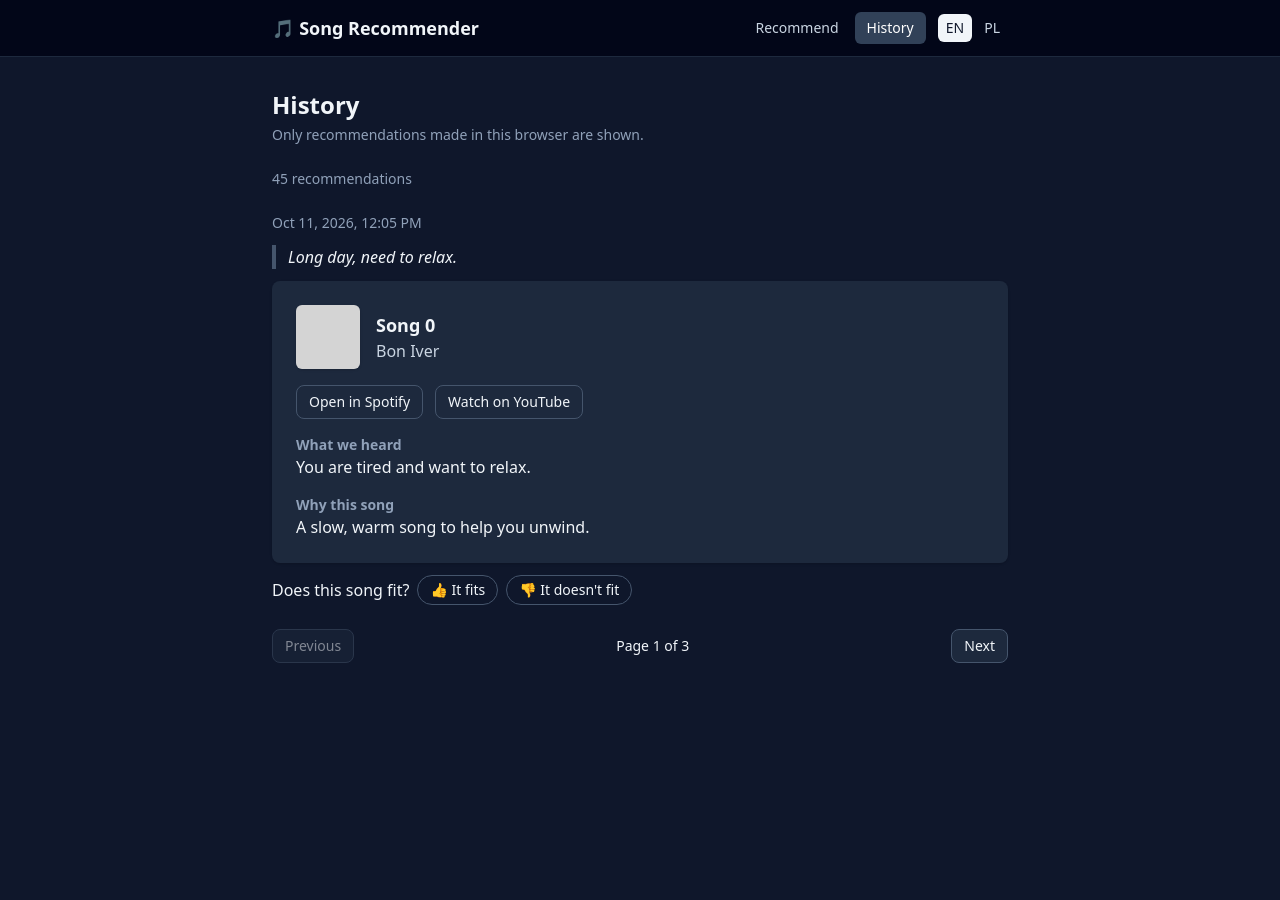
Scenario: HistoryPage › pages through the history
Expected: the text "Page 1 of 3" is shown, [616,636,689,656]
Expected: the button "Previous" is disabled, [272,629,354,663]
Click the button "Next" at [980, 646], box [951,629,1008,663]
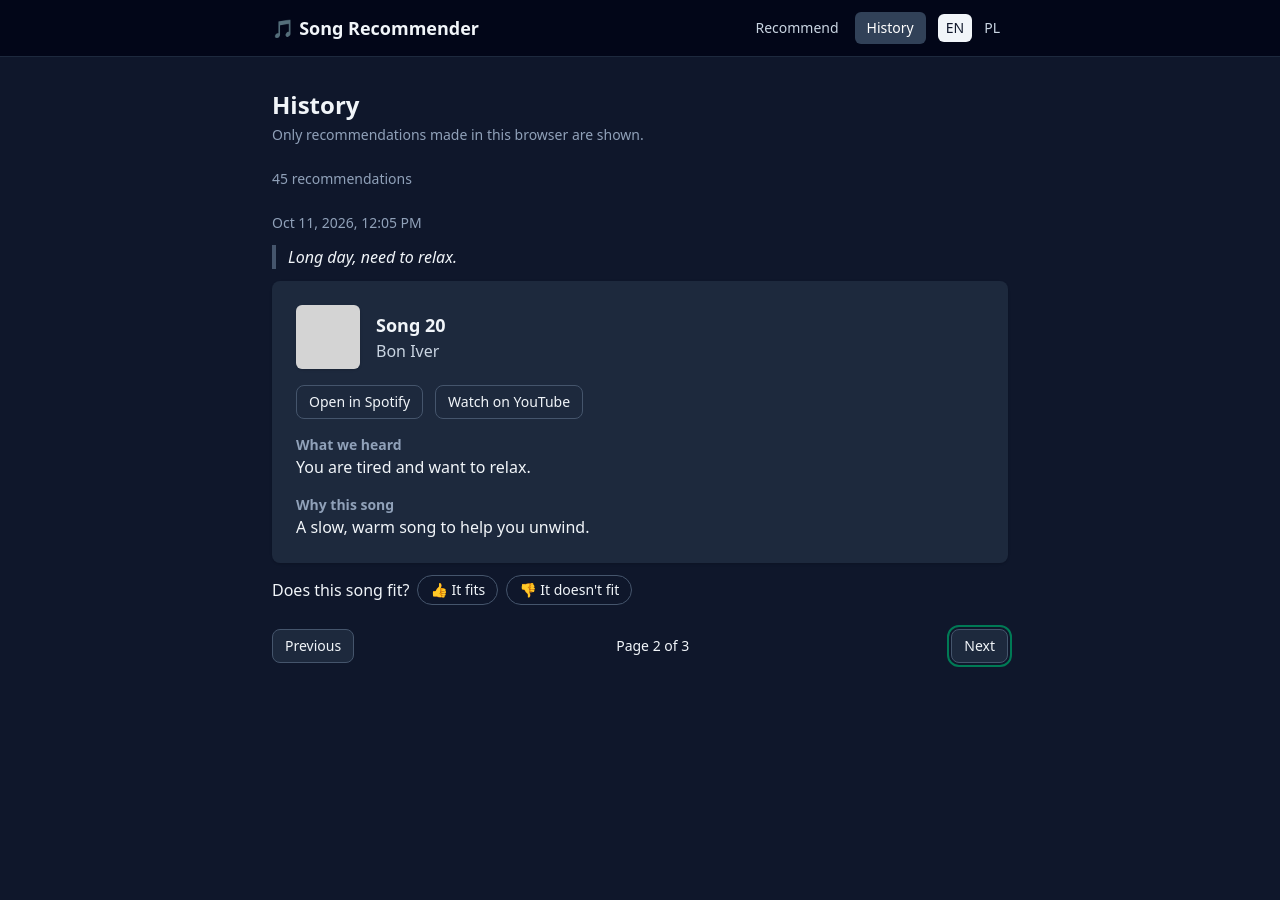
Now the heading "Song 20" is shown, box [376,311,446,339]
Click the button "Next" at [980, 646], box [951,629,1008,663]
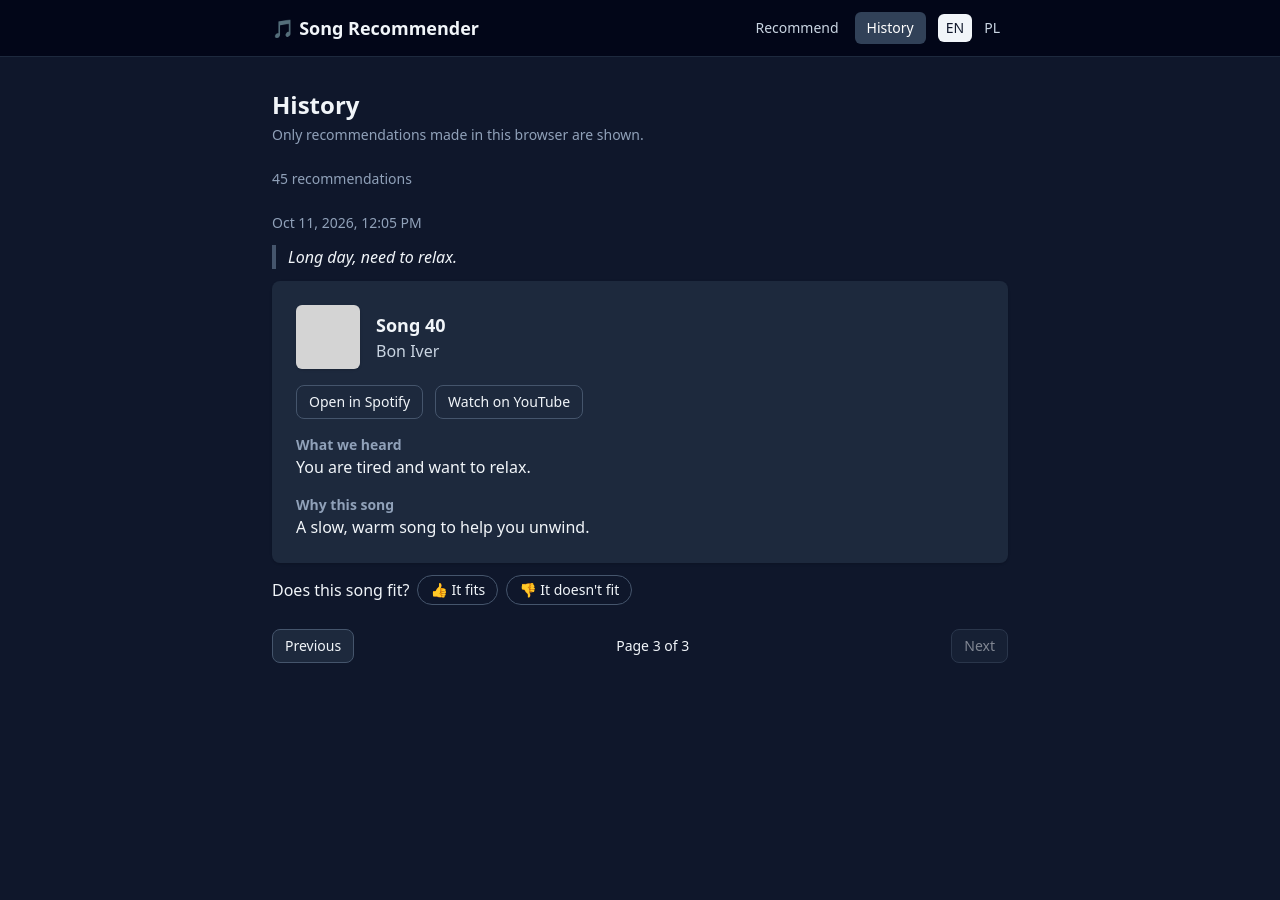
Now the heading "Song 40" is shown, box [376,311,446,339]
Now the button "Next" is disabled, box [951,629,1008,663]
